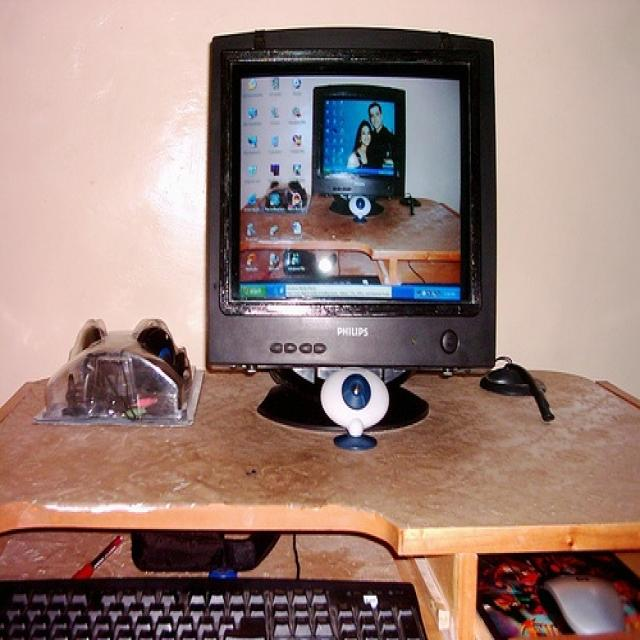tvmonitor: (202, 24, 500, 433)
